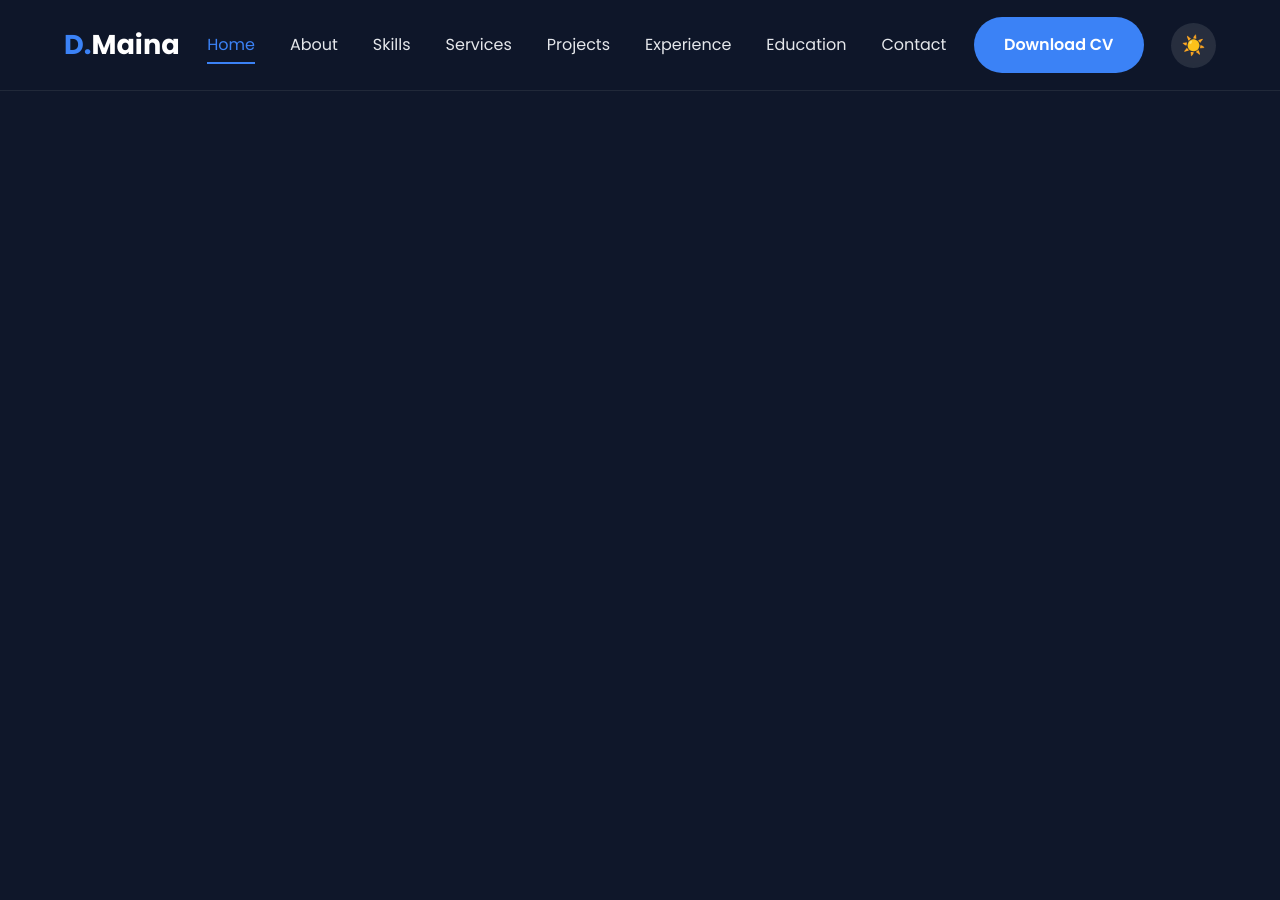
Scenario: Header › toggles the theme and updates the button label
Click the button named "switch to light theme".
click(1194, 45)  # box [1171, 22, 1216, 68]
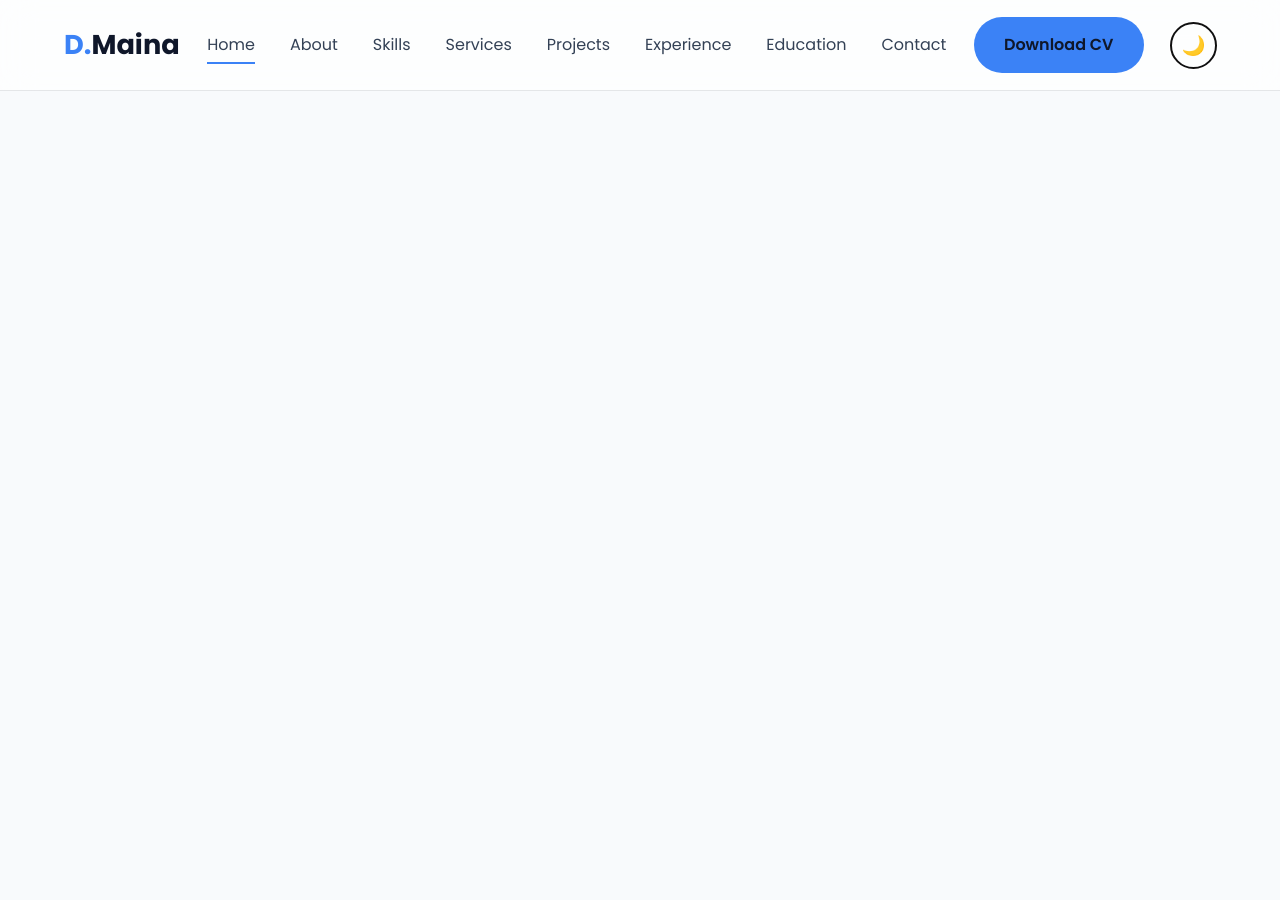
Check: the button named "switch to dark theme" is shown, box [1171, 22, 1216, 68]
